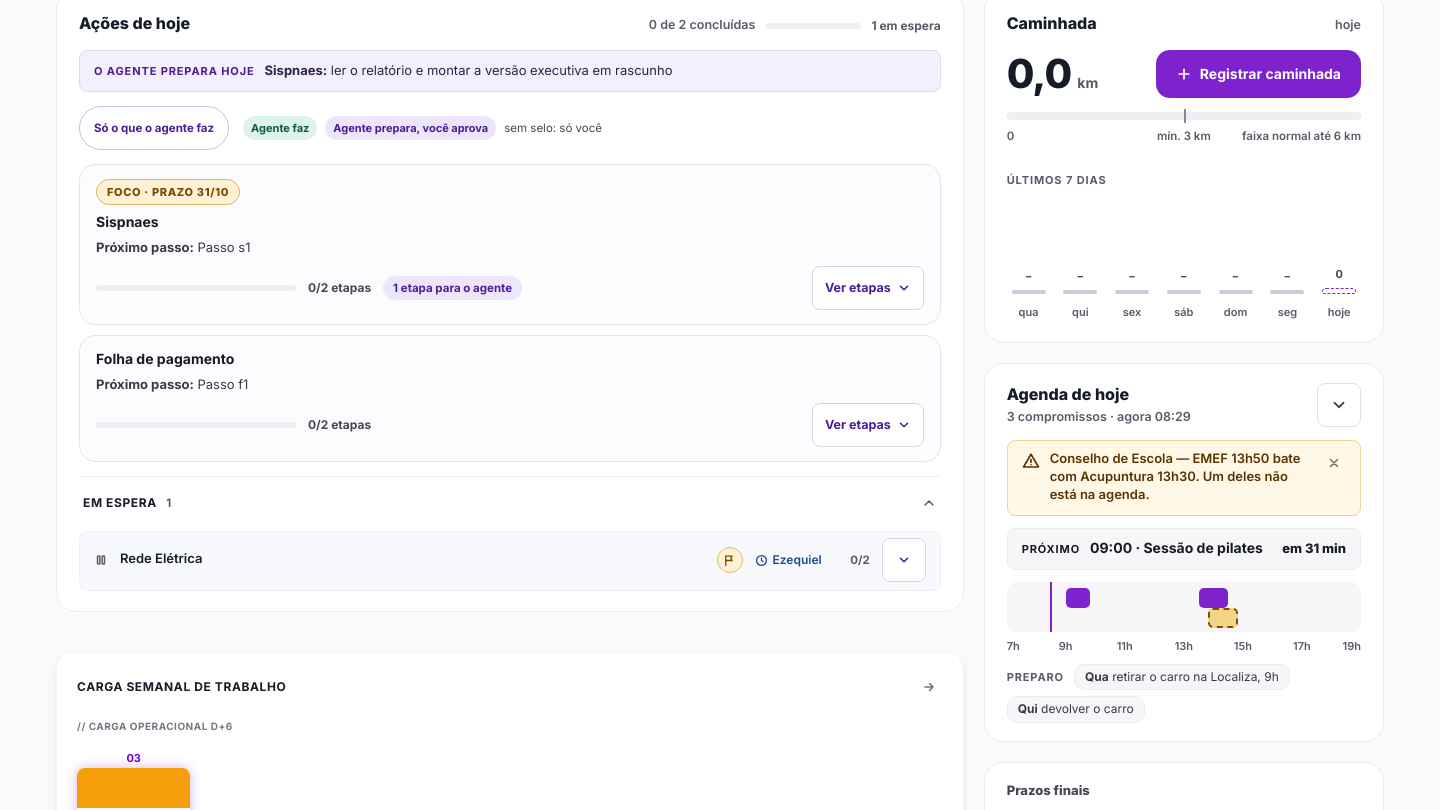
Painel do dia — com briefing_dia › a agenda vem do dia de hoje (o compromisso de ontem não entra)
(page scrolled)
Click the button named "Mostrar ou recolher a agenda completa".
click(1339, 405)  # box [1317, 383, 1361, 427]
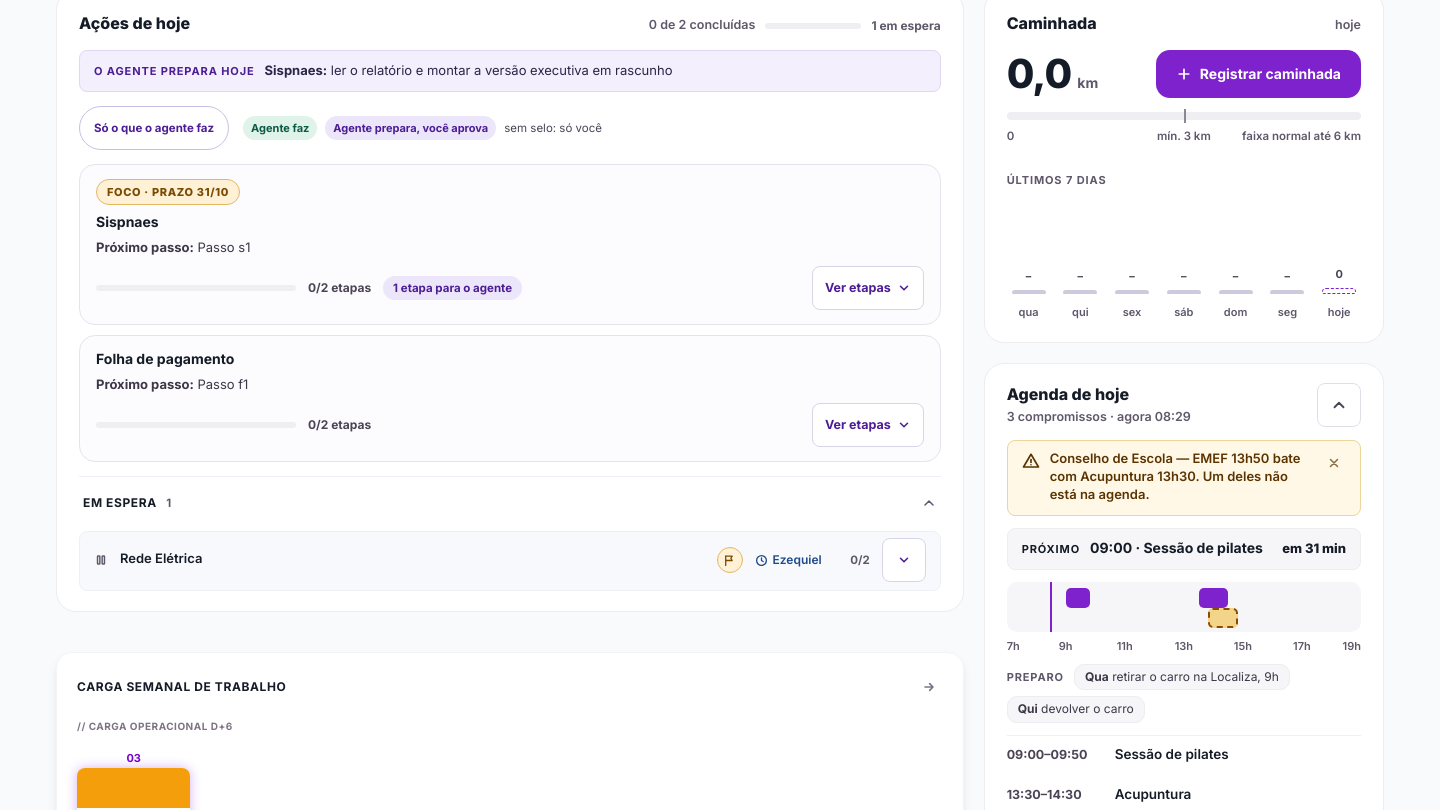
Now the text "Sessão de pilates" is shown, box [1115, 746, 1229, 764]
